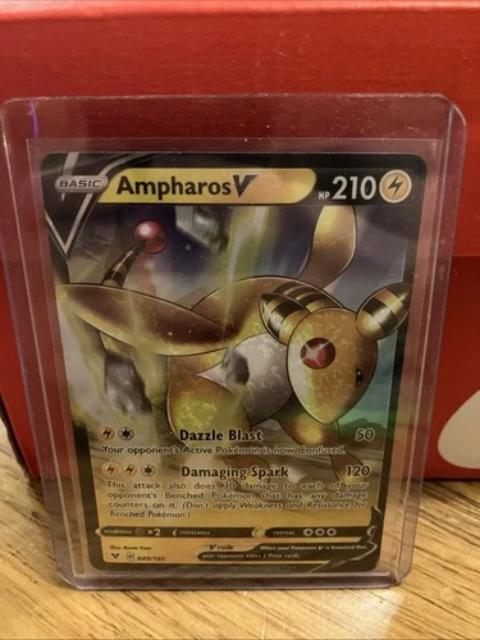Card: (32, 143, 430, 580)
Name: (113, 168, 259, 198)
